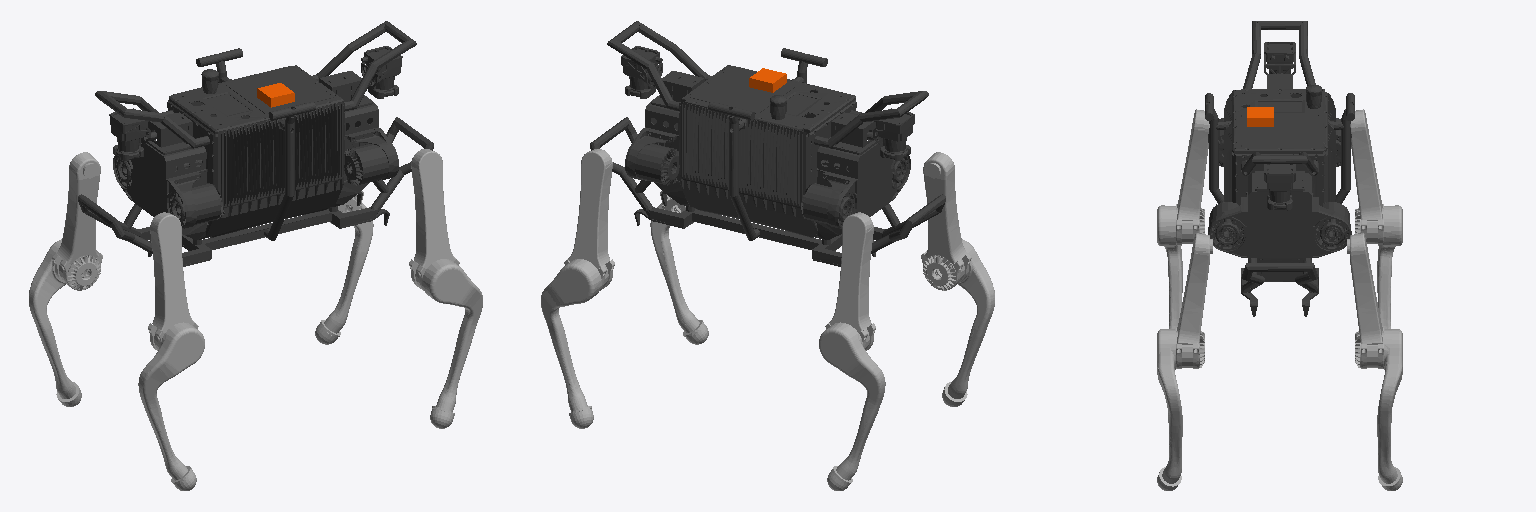
--- Facts derived from the render (not from the file) ---
3 views of the same robot in one strip: view 1: azimuth 30°, elevation 25°; view 2: azimuth 150°, elevation 25°; view 3: azimuth 270°, elevation 25° (orthographic).
Robot: anymal — 18 links, 17 joints (12 revolute, 5 fixed); root link base; default pose: all joints at 0.
Visible links, largest first — view 1: base, LH_THIGH, RH_SHANK, RF_THIGH, RH_THIGH, RF_SHANK, LH_SHANK, LF_SHANK, imu_link; view 2: base, RH_THIGH, LH_SHANK, LF_THIGH, LH_THIGH, LF_SHANK, RH_SHANK, RF_SHANK, imu_link; view 3: base, RF_THIGH, LF_THIGH, LH_THIGH, RH_THIGH, RF_SHANK, LF_SHANK, LH_SHANK, RH_SHANK, imu_link.
Link boxes in pixels (box(x1,y1,x2,y2)): base: box(78, 21, 433, 266); LH_THIGH: box(52, 152, 102, 290); RH_SHANK: box(138, 322, 204, 483); RF_THIGH: box(409, 149, 459, 290); RH_THIGH: box(148, 212, 198, 350); RF_SHANK: box(422, 259, 482, 415); LH_SHANK: box(29, 239, 79, 402); LF_SHANK: box(320, 203, 373, 336); imu_link: box(257, 83, 294, 107); base: box(590, 21, 945, 266); RH_THIGH: box(921, 152, 971, 290); LH_SHANK: box(819, 322, 885, 483); LF_THIGH: box(564, 149, 614, 290); LH_THIGH: box(825, 212, 875, 350); LF_SHANK: box(541, 259, 601, 415); RH_SHANK: box(944, 239, 994, 402); RF_SHANK: box(650, 203, 703, 336); imu_link: box(749, 68, 786, 92); base: box(1205, 21, 1354, 316); RF_THIGH: box(1176, 233, 1212, 368); LF_THIGH: box(1347, 233, 1383, 368); LH_THIGH: box(1350, 109, 1383, 245); RH_THIGH: box(1176, 109, 1209, 245); RF_SHANK: box(1157, 329, 1182, 487); LF_SHANK: box(1377, 329, 1402, 487); LH_SHANK: box(1377, 205, 1402, 328); RH_SHANK: box(1157, 205, 1182, 328); imu_link: box(1247, 107, 1273, 126).
Size in the robot's own frame: 0.8373 by 0.5398 by 0.8271 metres.
13 mesh visuals loaded from 8 distinct referenced files (6 Collada DAE, 1 OBJ); not drawn: 4 (reference not matched to a file when rendering).

robot.urdf — anymal:
<?xml version="1.0" ?>
<!-- =================================================================================== -->
<!-- |    This document was autogenerated by xacro from [local-path]/catkin_ws/src/anymal_beth/anymal_beth_description/urdf/anymal_beth.urdf.xacro | -->
<!-- |    EDITING THIS FILE BY HAND IS NOT RECOMMENDED                                 | -->
<!-- =================================================================================== -->
<!--Copyright (C) 2015 by Dario Bellicoso                                    -->
<[email redacted]                                                 -->
<!--                                                                         -->
<!--This program is free software; you can redistribute it and/or modify     -->
<!--it under the terms of the Lesser GNU General Public License as published -->
<!--by the Free Software Foundation; either version 3 of the License, or     -->
<!--(at your option) any later version.                                      -->
<!--                                                                         -->
<!--This program is distributed in the hope that it will be useful,          -->
<!--but WITHOUT ANY WARRANTY; without even the implied warranty of           -->
<!--MERCHANTABILITY or FITNESS FOR A PARTICULAR PURPOSE. See the             -->
<!--Lesser GNU General Public License for more details.                      -->
<!--                                                                         -->
<!--You should have received a copy of the Lesser GNU General Public License -->
<!--along with this program. If not, see <http://www.gnu.org/licenses/>.     -->
<!-- This file contains the description of the ANYmal Beth robot. -->
<robot name="anymal" xmlns:xacro="http://www.ros.org/wiki/xacro">
    <material name="black">
        <color rgba="0.0 0.0 0.0 1.0"/>
    </material>
    <material name="blue">
        <color rgba="0.0 0.0 0.8 1.0"/>
    </material>
    <material name="green">
        <color rgba="0.0 0.8 0.0 1.0"/>
    </material>
    <material name="grey">
        <color rgba="0.2 0.2 0.2 1.0"/>
    </material>
    <material name="light_grey">
        <color rgba="0.4 0.4 0.4 1.0"/>
    </material>
    <material name="orange">
        <color rgba="1.0 0.423529411765 0.0392156862745 1.0"/>
    </material>
    <material name="brown">
        <color rgba="0.870588235294 0.811764705882 0.764705882353 1.0"/>
    </material>
    <material name="red">
        <color rgba="0.8 0.0 0.0 1.0"/>
    </material>
    <material name="white">
        <color rgba="1.0 1.0 1.0 1.0"/>
    </material>
    <gazebo>
        <plugin filename="libanymal_gazebo.so" name="gazebo_ros_control">
            <robotNamespace>anymal</robotNamespace>
            <!-- Currently unused -->
            <robotDescription>quadruped_description</robotDescription>
            <robotBaseLink>base</robotBaseLink>
            <statePublisherRate>400.0</statePublisherRate>
        </plugin>
    </gazebo>
    <!-- Material for the visual primitives -->
    <material name="anymal_black_material">
        <color rgba="0.3 0.3 0.3 1"/>
    </material>
     <material name="anymal_material">
        <color rgba="0.7 0.7 0.7 1"/>
    </material>
    <!-- Xacro:Properties -->
    <!-- [m] -->
    <!-- Base link -->
    <link name="base">
        <visual>
            <origin rpy="0 0 0" xyz="0 0 0"/>
            <geometry>
                <mesh filename="anymal_base_2.obj" scale="0.001 0.001     0.001"/>
            </geometry>
            <material name="anymal_black_material"/>
        </visual>
        <collision>
            <!-- Main Body -->
            <origin rpy="0 0 0" xyz="0 0 0.08"/>
            <geometry>
                <box size="0.531 0.232 0.26"/>
            </geometry>
        </collision>
        <inertial>
            <origin rpy="0 0 0" xyz="0.022 -0.01 0.01"/>
            <mass value="21.39"/>
            <inertia ixx="0.268388530624" ixy="0.000775392455422" ixz="-0.0151848534451" iyy="0.884235660795" iyz="-0.000989297489507" izz="0.829158678306"/>
        </inertial>
    </link>
    <!-- Xacro:Properties -->
    <!-- [m] -->
    <!-- [Nm] -->
    <link name="LF_HIP">
        <visual>
            <origin rpy="3.14159265359 1.5707963268 3.14159265359" xyz="0 0 0"/>
            <geometry>
                <mesh filename="anymal_hip.obj" scale="0.001 0.001     0.001"/>
            </geometry>
            <material name="anymal_material"/>
        </visual>
        <collision>
            <origin rpy="1.57079632679 0 0" xyz="0.0585 0.0315 0.0"/>
            <geometry>
                <cylinder length="0.08" radius="0.04"/>
            </geometry>
        </collision>
        <inertial>
            <origin rpy="0 0 0" xyz="0.0542 -0.0136 0.0"/>
            <mass value="1.1064"/>
            <inertia ixx="0.00123301508523" ixy="-6.4285329973e-05" ixz="6.9990104e-08" iyy="0.000993231183395" iyz="2.327401345e-06" izz="0.00142160349098"/>
        </inertial>
    </link>
    <!-- Hip joint -->
    <joint name="LF_HAA" type="revolute">
        <parent link="base"/>
        <child link="LF_HIP"/>
        <origin xyz="0.2629 0.115 0.0"/>
        <axis xyz="1 0 0"/>
        <limit effort="80" lower="-6.28" upper="6.28" velocity="15"/>
        <dynamics damping="0.0" friction="0.0"/>
    </joint>
    <!-- Xacro:Properties -->
    <!-- [m] -->
    <!-- [Nm] -->
    <link name="LF_THIGH">
        <visual>
            <origin rpy="0 0 0" xyz="0 0 0"/>
            <geometry>
                <mesh filename="anymal_thigh.dae" scale="0.001 0.001     0.001"/>
            </geometry>
            <material name="anymal_material"/>
        </visual>
        <!--collision>
            <origin rpy="0.145 0 0" xyz="0 0.02 -0.1"/>
            <geometry>
                <cylinder length="0.2" radius="0.01"/>
            </geometry>
        </collision-->
        <collision>
            <origin rpy="1.57079632679 0 0" xyz="0.0 0.07 -0.25"/>
            <geometry>
                <cylinder length="0.08" radius="0.04"/>
            </geometry>
        </collision>
        <inertial>
            <origin rpy="0 0 0" xyz="0.0008 0.0545 -0.1975"/>
            <mass value="1.51"/>
            <inertia ixx="0.0147571628275" ixy="-1.7996507882e-05" ixz="0.000205877679383" iyy="0.0144188925719" iyz="-0.00181291342366" izz="0.00178449075964"/>
        </inertial>
    </link>
    <!-- Thigh joint -->
    <joint name="LF_HFE" type="revolute">
        <parent link="LF_HIP"/>
        <child link="LF_THIGH"/>
        <origin xyz="0.0585                    0.0315                    0.0"/>
        <axis xyz="0 1 0"/>
        <limit effort="80" lower="-6.28" upper="6.28" velocity="15"/>
        <dynamics damping="0.0" friction="0.0"/>
    </joint>
    <!-- Xacro:Properties -->
    <!-- [m] -->
    <!-- [Nm] -->
    <link name="LF_SHANK">
        <visual>
            <origin rpy="0 0 0.0" xyz="0 0 0"/>
            <geometry>
                <mesh filename="anymal_shank_2_LF.dae" scale="0.001 0.001     0.001"/>
            </geometry>
            <material name="anymal_material"/>
        </visual>
        <!--collision>
            <origin rpy="0 -0.9 -0.2" xyz="0.04 -0.02 -0.04"/>
            <geometry>
                <cylinder length="0.13" radius="0.015"/>
            </geometry>
        </collision-->
        <collision>
            <origin rpy="-0.0 0.34 0" xyz="0.06 -0.03 -0.18"/>
            <geometry>
                <cylinder length="0.19" radius="0.015"/>
            </geometry>
        </collision>
        <inertial>
            <origin rpy="0 0 0" xyz="0.016355414056 -0.00562219106 -0.064350437219"/>
            <mass value="0.318"/>
            <inertia ixx="0.0037693717909" ixy="-7.7334500762e-05" ixz="-0.000152069372983" iyy="0.00400446467635" iyz="-0.0003218356083" izz="0.000418471691904"/>
        </inertial>
    </link>
    <!-- Shank joint -->
    <joint name="LF_KFE" type="revolute">
        <parent link="LF_THIGH"/>
        <child link="LF_SHANK"/>
        <origin xyz="0.0 0.111 -0.25"/>
        <axis xyz="0 1 0"/>
        <limit effort="80" lower="-6.28" upper="6.28" velocity="15"/>
        <dynamics damping="0.0" friction="0.0"/>
    </joint>
    <!-- Foot mount link -->
    <link name="LF_FOOT_MOUNT">
        <visual>
            <origin rpy="0 0 0" xyz="0 0 0"/>
            <geometry>
                <mesh filename="anymal_optoforce.dae" scale="0.001 0.001     0.001"/>
            </geometry>
            <material name="anymal_material"/>
        </visual>
        <collision>
            <origin rpy="0 0 0" xyz="0.0 0.0 0"/>
            <geometry>
                <sphere radius="0.03"/>
            </geometry>
        </collision>
        <inertial>
            <origin rpy="0 0 0" xyz="-5.552058e-06 7.1133124e-05 -0.021388647779"/>
            <mass value="0.1922685"/>
            <inertia ixx="8.3086410294e-05" ixy="4.16901601e-07" ixz="3.99054799e-07" iyy="8.2860209667e-05" iyz="-3.45712252e-07" izz="8.1948124086e-05"/>
        </inertial>
    </link>
    <!-- Foot mount joint / ankle -->
    <joint name="LF_ANKLE_JOINT" type="fixed">
        <parent link="LF_SHANK"/>
        <child link="LF_FOOT_MOUNT"/>
        <origin rpy="0.323 0.549 0" xyz="0.0 -0.016 -0.31"/>
    </joint>
    <!-- Xacro:Properties -->
    <!-- [m] -->
    <!-- Gazebo customization -->
    <gazebo reference="LF_FOOT_SENSOR">
        <kp>1000000.0</kp>
        <kd>100.0</kd>
        <mu1>0.8</mu1>
        <mu2>0.8</mu2>
    </gazebo>
    <gazebo reference="LF_MOUNT_TO_SENSOR"/>
    <!-- Xacro:Properties -->
    <!-- [m] -->
    <!-- [Nm] -->
    <link name="RF_HIP">
        <visual>
            <origin rpy="0 -1.57079632679 3.14159265359" xyz="0 0 0"/>
            <geometry>
                <mesh filename="anymal_hip.obj" scale="0.001 0.001     0.001"/>
            </geometry>
            <material name="anymal_material"/>
        </visual>
        <collision>
            <origin rpy="1.57079632679 0 0" xyz="0.0585 -0.0315 0.0"/>
            <geometry>
                <cylinder length="0.08" radius="0.04"/>
            </geometry>
        </collision>
        <inertial>
            <origin rpy="0 0 0" xyz="0.0542 0.0136 0.0"/>
            <mass value="1.1064"/>
            <inertia ixx="0.00123301508523" ixy="6.4285329973e-05" ixz="6.9990104e-08" iyy="0.000993231183395" iyz="-2.327401345e-06" izz="0.00142160349098"/>
        </inertial>
    </link>
    <!-- Hip joint -->
    <joint name="RF_HAA" type="revolute">
        <parent link="base"/>
        <child link="RF_HIP"/>
        <origin xyz="0.2629 -0.115 0.0"/>
        <axis xyz="1 0 0"/>
        <limit effort="80" lower="-6.28" upper="6.28" velocity="15"/>
        <dynamics damping="0.0" friction="0.0"/>
    </joint>
    <!-- Xacro:Properties -->
    <!-- [m] -->
    <!-- [Nm] -->
    <link name="RF_THIGH">
        <visual>
            <origin rpy="0 0 3.14159265359" xyz="0 0 0"/>
            <geometry>
                <mesh filename="anymal_thigh.dae" scale="0.001 0.001     0.001"/>
            </geometry>
            <material name="anymal_material"/>
        </visual>
        <!--collision>
            <origin rpy="-0.145 0 0" xyz="0 -0.02 -0.1"/>
            <geometry>
                <cylinder length="0.2" radius="0.01"/>
            </geometry>
        </collision-->
        <collision>
            <origin rpy="1.57079632679 0 0" xyz="0.0 -0.07 -0.25"/>
            <geometry>
                <cylinder length="0.08" radius="0.04"/>
            </geometry>
        </collision>
        <inertial>
            <origin rpy="0 0 0" xyz="0.0008 -0.0545 -0.1975"/>
            <mass value="1.51"/>
            <inertia ixx="0.0147571628275" ixy="1.7996507882e-05" ixz="0.000205877679383" iyy="0.0144188925719" iyz="0.00181291342366" izz="0.00178449075964"/>
        </inertial>
    </link>
    <!-- Thigh joint -->
    <joint name="RF_HFE" type="revolute">
        <parent link="RF_HIP"/>
        <child link="RF_THIGH"/>
        <origin xyz="0.0585                    -0.0315                    0.0"/>
        <axis xyz="0 1 0"/>
        <limit effort="80" lower="-6.28" upper="6.28" velocity="15"/>
        <dynamics damping="0.0" friction="0.0"/>
    </joint>
    <!-- Xacro:Properties -->
    <!-- [m] -->
    <!-- [Nm] -->
    <link name="RF_SHANK">
        <visual>
            <origin rpy="3.14159265359 3.14159265359 3.14159265359" xyz="0 0 0"/>
            <geometry>
                <mesh filename="anymal_shank_2_RF.dae" scale="0.001 0.001     0.001"/>
            </geometry>
            <material name="anymal_material"/>
        </visual>
        <!--collision>
            <origin rpy="0 -0.9 0.2" xyz="0.04 0.02 -0.04"/>
            <geometry>
                <cylinder length="0.13" radius="0.015"/>
            </geometry>
        </collision-->
        <collision>
            <origin rpy="0.0 0.34 0" xyz="0.06 0.03 -0.18"/>
            <geometry>
                <cylinder length="0.19" radius="0.015"/>
            </geometry>
        </collision>
        <inertial>
            <origin rpy="0 0 0" xyz="0.016355414056 0.00562219106 -0.064350437219"/>
            <mass value="0.318"/>
            <inertia ixx="0.0037693717909" ixy="7.7334500762e-05" ixz="-0.000152069372983" iyy="0.00400446467635" iyz="0.0003218356083" izz="0.000418471691904"/>
        </inertial>
    </link>
    <!-- Shank joint -->
    <joint name="RF_KFE" type="revolute">
        <parent link="RF_THIGH"/>
        <child link="RF_SHANK"/>
        <origin xyz="0.0 -0.111 -0.25"/>
        <axis xyz="0 1 0"/>
        <limit effort="80" lower="-6.28" upper="6.28" velocity="15"/>
        <dynamics damping="0.0" friction="0.0"/>
    </joint>
    <!-- Foot mount link -->
    <link name="RF_FOOT_MOUNT">
        <visual>
            <origin rpy="0 0 0" xyz="0 0 0"/>
            <geometry>
                <mesh filename="anymal_optoforce.dae" scale="0.001 0.001     0.001"/>
            </geometry>
            <material name="anymal_material"/>
        </visual>
        <collision>
            <origin rpy="0 0 0" xyz="0.0 0.0 0"/>
            <geometry>
                <sphere radius="0.03"/>
            </geometry>
        </collision>
        <inertial>
            <origin rpy="0 0 0" xyz="-5.552058e-06 -7.1133124e-05 -0.021388647779"/>
            <mass value="0.1922685"/>
            <inertia ixx="8.3086410294e-05" ixy="-4.16901601e-07" ixz="3.99054799e-07" iyy="8.2860209667e-05" iyz="3.45712252e-07" izz="8.1948124086e-05"/>
        </inertial>
    </link>
    <!-- Foot mount joint / ankle -->
    <joint name="RF_ANKLE_JOINT" type="fixed">
        <parent link="RF_SHANK"/>
        <child link="RF_FOOT_MOUNT"/>
        <origin rpy="-0.323 0.549 0" xyz="0.0 0.016 -0.31"/>
    </joint>
    <!-- Xacro:Properties -->
    <!-- [m] -->
    <!-- Gazebo customization -->
    <gazebo reference="RF_FOOT_SENSOR">
        <kp>1000000.0</kp>
        <kd>100.0</kd>
        <mu1>0.8</mu1>
        <mu2>0.8</mu2>
    </gazebo>
    <gazebo reference="RF_MOUNT_TO_SENSOR"/>
    <!-- Xacro:Properties -->
    <!-- [m] -->
    <!-- [Nm] -->
    <link name="LH_HIP">
        <visual>
            <origin rpy="0 -1.5707963268 0" xyz="0 0 0"/>
            <geometry>
                <mesh filename="anymal_hip.obj" scale="0.001 0.001     0.001"/>
            </geometry>
            <material name="anymal_material"/>
        </visual>
        <collision>
            <origin rpy="-1.57079632679 0 0" xyz="-0.0585 0.0315 0.0"/>
            <geometry>
                <cylinder length="0.08" radius="0.04"/>
            </geometry>
        </collision>
        <inertial>
            <origin rpy="0 0 0" xyz="-0.0542 -0.0136 0.0"/>
            <mass value="1.1064"/>
            <inertia ixx="0.00123301508523" ixy="6.4285329973e-05" ixz="-6.9990104e-08" iyy="0.000993231183395" iyz="2.327401345e-06" izz="0.00142160349098"/>
        </inertial>
    </link>
    <!-- Hip joint -->
    <joint name="LH_HAA" type="revolute">
        <parent link="base"/>
        <child link="LH_HIP"/>
        <origin xyz="-0.2629 0.115 0.0"/>
        <axis xyz="1 0 0"/>
        <limit effort="80" lower="-6.28" upper="6.28" velocity="15"/>
        <dynamics damping="0.0" friction="0.0"/>
    </joint>
    <!-- Xacro:Properties -->
    <!-- [m] -->
    <!-- [Nm] -->
    <link name="LH_THIGH">
        <visual>
            <origin rpy="0 0 0" xyz="0 0 0"/>
            <geometry>
                <mesh filename="anymal_thigh.dae" scale="0.001 0.001     0.001"/>
            </geometry>
            <material name="anymal_material"/>
        </visual>
        <!--collision>
            <origin rpy="0.145 0 0" xyz="0 0.02 -0.1"/>
            <geometry>
                <cylinder length="0.2" radius="0.01"/>
            </geometry>
        </collision-->
        <collision>
            <origin rpy="1.57079632679 0 0" xyz="0.0 0.07 -0.25"/>
            <geometry>
                <cylinder length="0.08" radius="0.04"/>
            </geometry>
        </collision>
        <inertial>
            <origin rpy="0 0 0" xyz="-0.0008 0.0545 -0.1975"/>
            <mass value="1.51"/>
            <inertia ixx="0.0147571628275" ixy="1.7996507882e-05" ixz="-0.000205877679383" iyy="0.0144188925719" iyz="-0.00181291342366" izz="0.00178449075964"/>
        </inertial>
    </link>
    <!-- Thigh joint -->
    <joint name="LH_HFE" type="revolute">
        <parent link="LH_HIP"/>
        <child link="LH_THIGH"/>
        <origin xyz="-0.0585                    0.0315                    0.0"/>
        <axis xyz="0 1 0"/>
        <limit effort="80" lower="-6.28" upper="6.28" velocity="15"/>
        <dynamics damping="0.0" friction="0.0"/>
    </joint>
    <!-- Xacro:Properties -->
    <!-- [m] -->
    <!-- [Nm] -->
    <link name="LH_SHANK">
        <visual>
            <origin rpy="0 0 0" xyz="0 0 0"/>
            <geometry>
                <mesh filename="anymal_shank_2_LH.dae" scale="0.001 0.001     0.001"/>
            </geometry>
            <material name="anymal_material"/>
        </visual>
        <!--collision>
            <origin rpy="0 0.9 0.2" xyz="-0.04 -0.02 -0.04"/>
            <geometry>
                <cylinder length="0.13" radius="0.015"/>
            </geometry>
        </collision-->
        <collision>
            <origin rpy="-0.0 -0.34 0" xyz="-0.06 -0.03 -0.18"/>
            <geometry>
                <cylinder length="0.19" radius="0.015"/>
            </geometry>
        </collision>
        <inertial>
            <origin rpy="0 0 0" xyz="-0.016355414056 -0.00562219106 -0.064350437219"/>
            <mass value="0.318"/>
            <inertia ixx="0.0037693717909" ixy="7.7334500762e-05" ixz="0.000152069372983" iyy="0.00400446467635" iyz="-0.0003218356083" izz="0.000418471691904"/>
        </inertial>
    </link>
    <!-- Shank joint -->
    <joint name="LH_KFE" type="revolute">
        <parent link="LH_THIGH"/>
        <child link="LH_SHANK"/>
        <origin xyz="-0.0 0.111 -0.25"/>
        <axis xyz="0 1 0"/>
        <limit effort="80" lower="-6.28" upper="6.28" velocity="15"/>
        <dynamics damping="0.0" friction="0.0"/>
    </joint>
    <!-- Foot mount link -->
    <link name="LH_FOOT_MOUNT">
        <visual>
            <origin rpy="0 0 0" xyz="0 0 0"/>
            <geometry>
                <mesh filename="anymal_optoforce.dae" scale="0.001 0.001     0.001"/>
            </geometry>
            <material name="anymal_material"/>
        </visual>
        <collision>
            <origin rpy="0 0 0" xyz="0.0 0.0 0"/>
            <geometry>
                <sphere radius="0.03"/>
            </geometry>
        </collision>
        <inertial>
            <origin rpy="0 0 0" xyz="5.552058e-06 7.1133124e-05 -0.021388647779"/>
            <mass value="0.1922685"/>
            <inertia ixx="8.3086410294e-05" ixy="-4.16901601e-07" ixz="-3.99054799e-07" iyy="8.2860209667e-05" iyz="-3.45712252e-07" izz="8.1948124086e-05"/>
        </inertial>
    </link>
    <!-- Foot mount joint / ankle -->
    <joint name="LH_ANKLE_JOINT" type="fixed">
        <parent link="LH_SHANK"/>
        <child link="LH_FOOT_MOUNT"/>
        <origin rpy="0.323 -0.549 0" xyz="-0.0 -0.016 -0.31"/>
    </joint>
    <!-- Xacro:Properties -->
    <!-- [m] -->
    <!-- Gazebo customization -->
    <gazebo reference="LH_FOOT_SENSOR">
        <kp>1000000.0</kp>
        <kd>100.0</kd>
        <mu1>0.8</mu1>
        <mu2>0.8</mu2>
    </gazebo>
    <gazebo reference="LH_MOUNT_TO_SENSOR"/>
    <!-- Xacro:Properties -->
    <!-- [m] -->
    <!-- [Nm] -->
    <link name="RH_HIP">
        <visual>
            <origin rpy="1.5707963268 1.5707963268 -1.5707963268" xyz="0 0 0"/>
            <geometry>
                <mesh filename="anymal_hip.obj" scale="0.001 0.001     0.001"/>
            </geometry>
            <material name="anymal_material"/>
        </visual>
        <collision>
            <origin rpy="-1.57079632679 0 0" xyz="-0.0585 -0.0315 0.0"/>
            <geometry>
                <cylinder length="0.08" radius="0.04"/>
            </geometry>
        </collision>
        <inertial>
            <origin rpy="0 0 0" xyz="-0.0542 0.0136 0.0"/>
            <mass value="1.1064"/>
            <inertia ixx="0.00123301508523" ixy="-6.4285329973e-05" ixz="-6.9990104e-08" iyy="0.000993231183395" iyz="-2.327401345e-06" izz="0.00142160349098"/>
        </inertial>
    </link>
    <!-- Hip joint -->
    <joint name="RH_HAA" type="revolute">
        <parent link="base"/>
        <child link="RH_HIP"/>
        <origin xyz="-0.2629 -0.115 0.0"/>
        <axis xyz="1 0 0"/>
        <limit effort="80" lower="-6.28" upper="6.28" velocity="15"/>
        <dynamics damping="0.0" friction="0.0"/>
    </joint>
    <!-- Xacro:Properties -->
    <!-- [m] -->
    <!-- [Nm] -->
    <link name="RH_THIGH">
        <visual>
            <origin rpy="0 0 3.14159265359" xyz="0 0 0"/>
            <geometry>
                <mesh filename="anymal_thigh.dae" scale="0.001 0.001     0.001"/>
            </geometry>
            <material name="anymal_material"/>
        </visual>
        <!--collision>
            <origin rpy="-0.145 0 0" xyz="0 -0.02 -0.1"/>
            <geometry>
                <cylinder length="0.2" radius="0.01"/>
            </geometry>
        </collision-->
        <collision>
            <origin rpy="1.57079632679 0 0" xyz="0.0 -0.07 -0.25"/>
            <geometry>
                <cylinder length="0.08" radius="0.04"/>
            </geometry>
        </collision>
        <inertial>
            <origin rpy="0 0 0" xyz="-0.0008 -0.0545 -0.1975"/>
            <mass value="1.51"/>
            <inertia ixx="0.0147571628275" ixy="-1.7996507882e-05" ixz="-0.000205877679383" iyy="0.0144188925719" iyz="0.00181291342366" izz="0.00178449075964"/>
        </inertial>
    </link>
    <!-- Thigh joint -->
    <joint name="RH_HFE" type="revolute">
        <parent link="RH_HIP"/>
        <child link="RH_THIGH"/>
        <origin xyz="-0.0585                    -0.0315                    0.0"/>
        <axis xyz="0 1 0"/>
        <limit effort="80" lower="-6.28" upper="6.28" velocity="15"/>
        <dynamics damping="0.0" friction="0.0"/>
    </joint>
    <!-- Xacro:Properties -->
    <!-- [m] -->
    <!-- [Nm] -->
    <link name="RH_SHANK">
        <visual>
            <origin rpy="0 0 0" xyz="0 0 0"/>
            <geometry>
                <mesh filename="anymal_shank_2_RH.dae" scale="0.001 0.001     0.001"/>
            </geometry>
            <material name="anymal_material"/>
        </visual>
        <!--collision>
            <origin rpy="0 0.9 -0.2" xyz="-0.04 0.02 -0.04"/>
            <geometry>
                <cylinder length="0.13" radius="0.015"/>
            </geometry>
        </collision-->
        <collision>
            <origin rpy="0.0 -0.34 0" xyz="-0.06 0.03 -0.18"/>
            <geometry>
                <cylinder length="0.19" radius="0.015"/>
            </geometry>
        </collision>
        <inertial>
            <origin rpy="0 0 0" xyz="-0.016355414056 0.00562219106 -0.064350437219"/>
            <mass value="0.318"/>
            <inertia ixx="0.0037693717909" ixy="-7.7334500762e-05" ixz="0.000152069372983" iyy="0.00400446467635" iyz="0.0003218356083" izz="0.000418471691904"/>
        </inertial>
    </link>
    <!-- Shank joint -->
    <joint name="RH_KFE" type="revolute">
        <parent link="RH_THIGH"/>
        <child link="RH_SHANK"/>
        <origin xyz="-0.0 -0.111 -0.25"/>
        <axis xyz="0 1 0"/>
        <limit effort="80" lower="-6.28" upper="6.28" velocity="15"/>
        <dynamics damping="0.0" friction="0.0"/>
    </joint>
    <!-- Foot mount link -->
    <link name="RH_FOOT_MOUNT">
        <visual>
            <origin rpy="0 0 0" xyz="0 0 0"/>
            <geometry>
                <mesh filename="anymal_optoforce.dae" scale="0.001 0.001     0.001"/>
            </geometry>
            <material name="anymal_material"/>
        </visual>
        <collision>
            <origin rpy="0 0 0" xyz="0.0 0.0 0"/>
            <geometry>
                <sphere radius="0.03"/>
            </geometry>
        </collision>
        <inertial>
            <origin rpy="0 0 0" xyz="5.552058e-06 -7.1133124e-05 -0.021388647779"/>
            <mass value="0.1922685"/>
            <inertia ixx="8.3086410294e-05" ixy="4.16901601e-07" ixz="-3.99054799e-07" iyy="8.2860209667e-05" iyz="3.45712252e-07" izz="8.1948124086e-05"/>
        </inertial>
    </link>
    <!-- Foot mount joint / ankle -->
    <joint name="RH_ANKLE_JOINT" type="fixed">
        <parent link="RH_SHANK"/>
        <child link="RH_FOOT_MOUNT"/>
        <origin rpy="-0.323 -0.549 0" xyz="-0.0 0.016 -0.31"/>
    </joint>
    <!-- Xacro:Properties -->
    <!-- [m] -->
    <!-- Gazebo customization -->
    <gazebo reference="RH_FOOT_SENSOR">
        <kp>1000000.0</kp>
        <kd>100.0</kd>
        <mu1>0.8</mu1>
        <mu2>0.8</mu2>
    </gazebo>
    <gazebo reference="RH_MOUNT_TO_SENSOR"/>
    <link name="imu_link">
        <visual>
            <origin rpy="0 0 0" xyz="0 0 0.011"/>
            <geometry>
                <box size="0.058 0.058 0.022"/>
            </geometry>
            <material name="orange"/>
        </visual>
        <collision>
            <origin rpy="0 0 0" xyz="0 0 0.011"/>
            <geometry>
                <box size="0.058 0.058 0.022"/>
            </geometry>
        </collision>
        <inertial>
            <mass value="0.05"/>
            <origin xyz="0 0 0"/>
            <inertia ixx="1.60333333333e-05" ixy="0.0" ixz="0.0" iyy="2.80333333333e-05" iyz="0.0" izz="1.60333333333e-05"/>
        </inertial>
    </link>
    <joint name="imu_joint" type="fixed">
        <parent link="base"/>
        <child link="imu_link"/>
        <origin rpy="3.14159265359 0 0" xyz="0.0245 -0.04255 0.1857"/>
    </joint>
    <gazebo reference="imu_link">
        <material>Gazebo/Orange</material>
        <mu1>0.8</mu1>
        <mu2>0.8</mu2>
    </gazebo>
    <gazebo reference="imu_joint">
    </gazebo>
    <gazebo>
        <plugin filename="libhector_gazebo_ros_imu.so" name="imu_plugin">
            <robotNamespace>sensors</robotNamespace>
            <bodyName>imu_link</bodyName>
            <frameId>/imu_link</frameId>
            <topicName>imu</topicName>
            <biasTopicName>imu/bias</biasTopicName>
            <serviceName>imu/calibrate</serviceName>
            <updateRate>400</updateRate>
        </plugin>
    </gazebo>
    <!-- Omniview -->
    <!-- <xacro:include filename="$(find anymal_beth_description)/urdf/omniview/anymal_beth_omniview_macro.urdf.xacro"/> -->
    <!-- <xacro:anymal_beth_omniview_mesh link_name="omniview_mesh_front" parent_name="base" joint_name="omniview_mesh_front_joint"> -->
    <!-- <origin xyz="0.3312 0.0 0.025" rpy="-1.57079632679 0.0 0.0"/> -->
    <!-- </xacro:anymal_beth_omniview_mesh> -->
    <!-- <xacro:anymal_beth_omniview_mesh link_name="omniview_mesh_back" parent_name="base" joint_name="omniview_mesh_back_joint"> -->
    <!-- <origin xyz="-0.3312 0.0 0.025" rpy="-1.57079632679 0.0 3.14159265359"/> -->
    <!-- </xacro:anymal_beth_omniview_mesh> -->
    <!--<link name="static_lidar_front"/>-->
    <!--<joint name="base_to_static_lidar_front" type="fixed">-->
        <!--<origin rpy="1.57079632679 0.0 1.57079632679" xyz="0.2 0.0 0.1415"/>-->
        <!--<parent link="base"/>-->
        <!--<child link="static_lidar_front"/>-->
        <!--<origin rpy="0 0 0" xyz="0 0 0"/>-->
    <!--</joint>-->
    <!-- <xacro:anymal_lidar_fix name="static_lidar_back" parent="base" dynamixel_lidar_offset="0.1515">
        <origin xyz="-0.2 0.0 0.1415" rpy="1.57079632679 0.0 -1.57079632679"/>
      </xacro:anymal_lidar_fix> -->
</robot>
